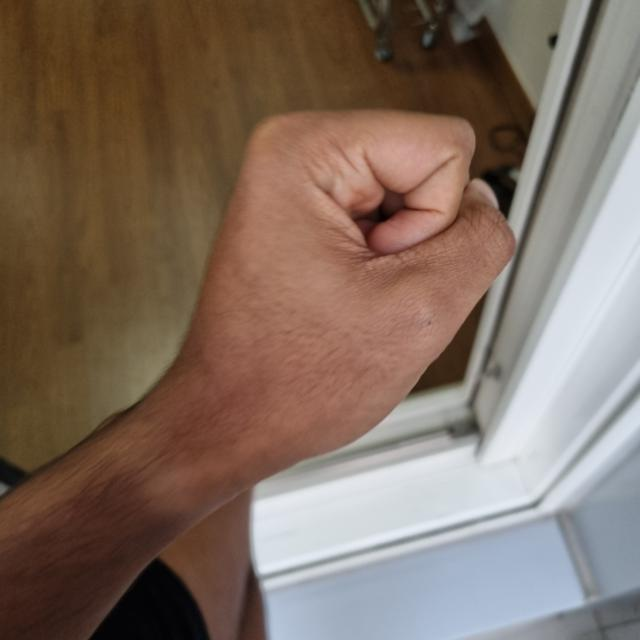Rock: (163, 106, 517, 477)
